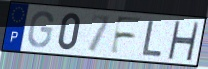0: (56, 12, 83, 52)
7: (86, 13, 111, 54)
F: (108, 15, 145, 57)
G: (26, 10, 55, 49)
H: (166, 20, 201, 63)
L: (140, 19, 164, 58)
